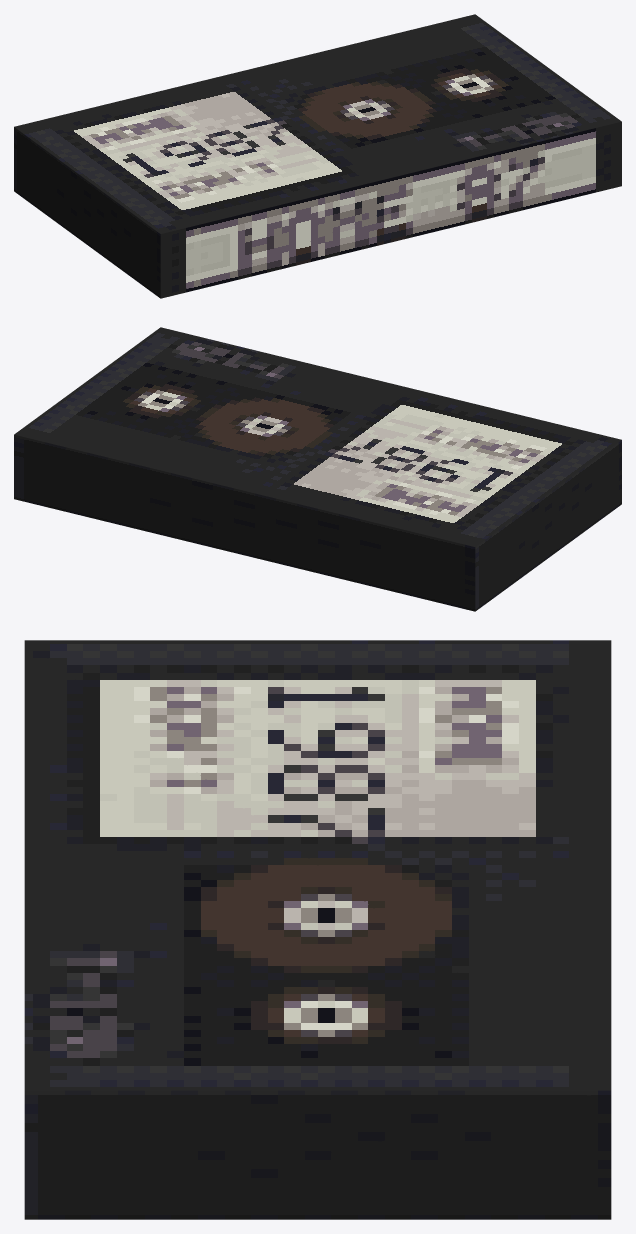
Rendered from vhs_tape.obj.
3 views of the same model, one above another, from view 1: azimuth 30°, elevation 25°; view 2: azimuth 150°, elevation 25°; view 3: azimuth 270°, elevation 25° (orthographic). The views are drawn at different scales.
Parts seen in each view (by area): view 1: vhs_tape; view 2: vhs_tape; view 3: vhs_tape.
Boxes of the visible parts, x1,y1,x2,y2 form: vhs_tape: [14, 14, 621, 298]; vhs_tape: [14, 327, 621, 611]; vhs_tape: [24, 640, 611, 1219].
Size of the model in its own units: 0.187 by 0.025 by 0.103.
Materials: 1 (1 with a texture image).
